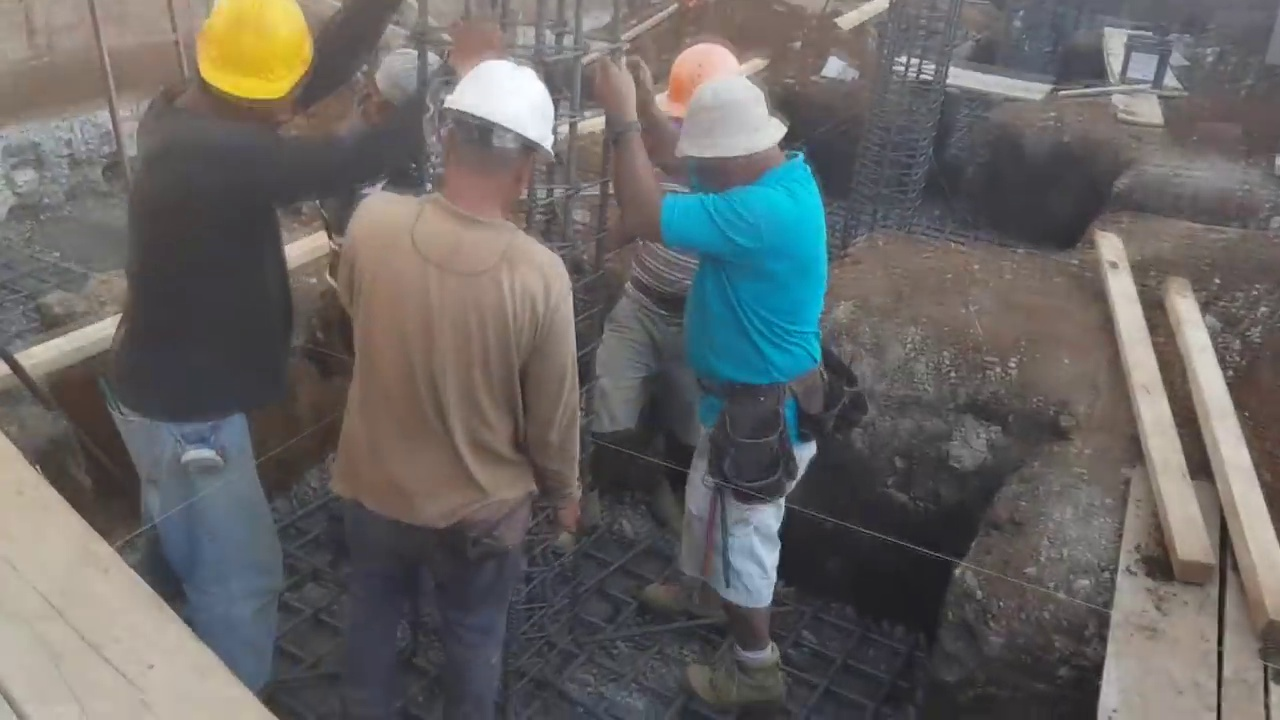helmet: (445, 50, 559, 163), (184, 7, 309, 108)
helmet-off: (673, 69, 795, 187)
helmet-on: (435, 54, 559, 238), (160, 0, 313, 126), (365, 43, 427, 127)
person: (130, 0, 443, 697), (314, 54, 587, 720), (585, 28, 837, 716), (578, 197, 739, 533)
